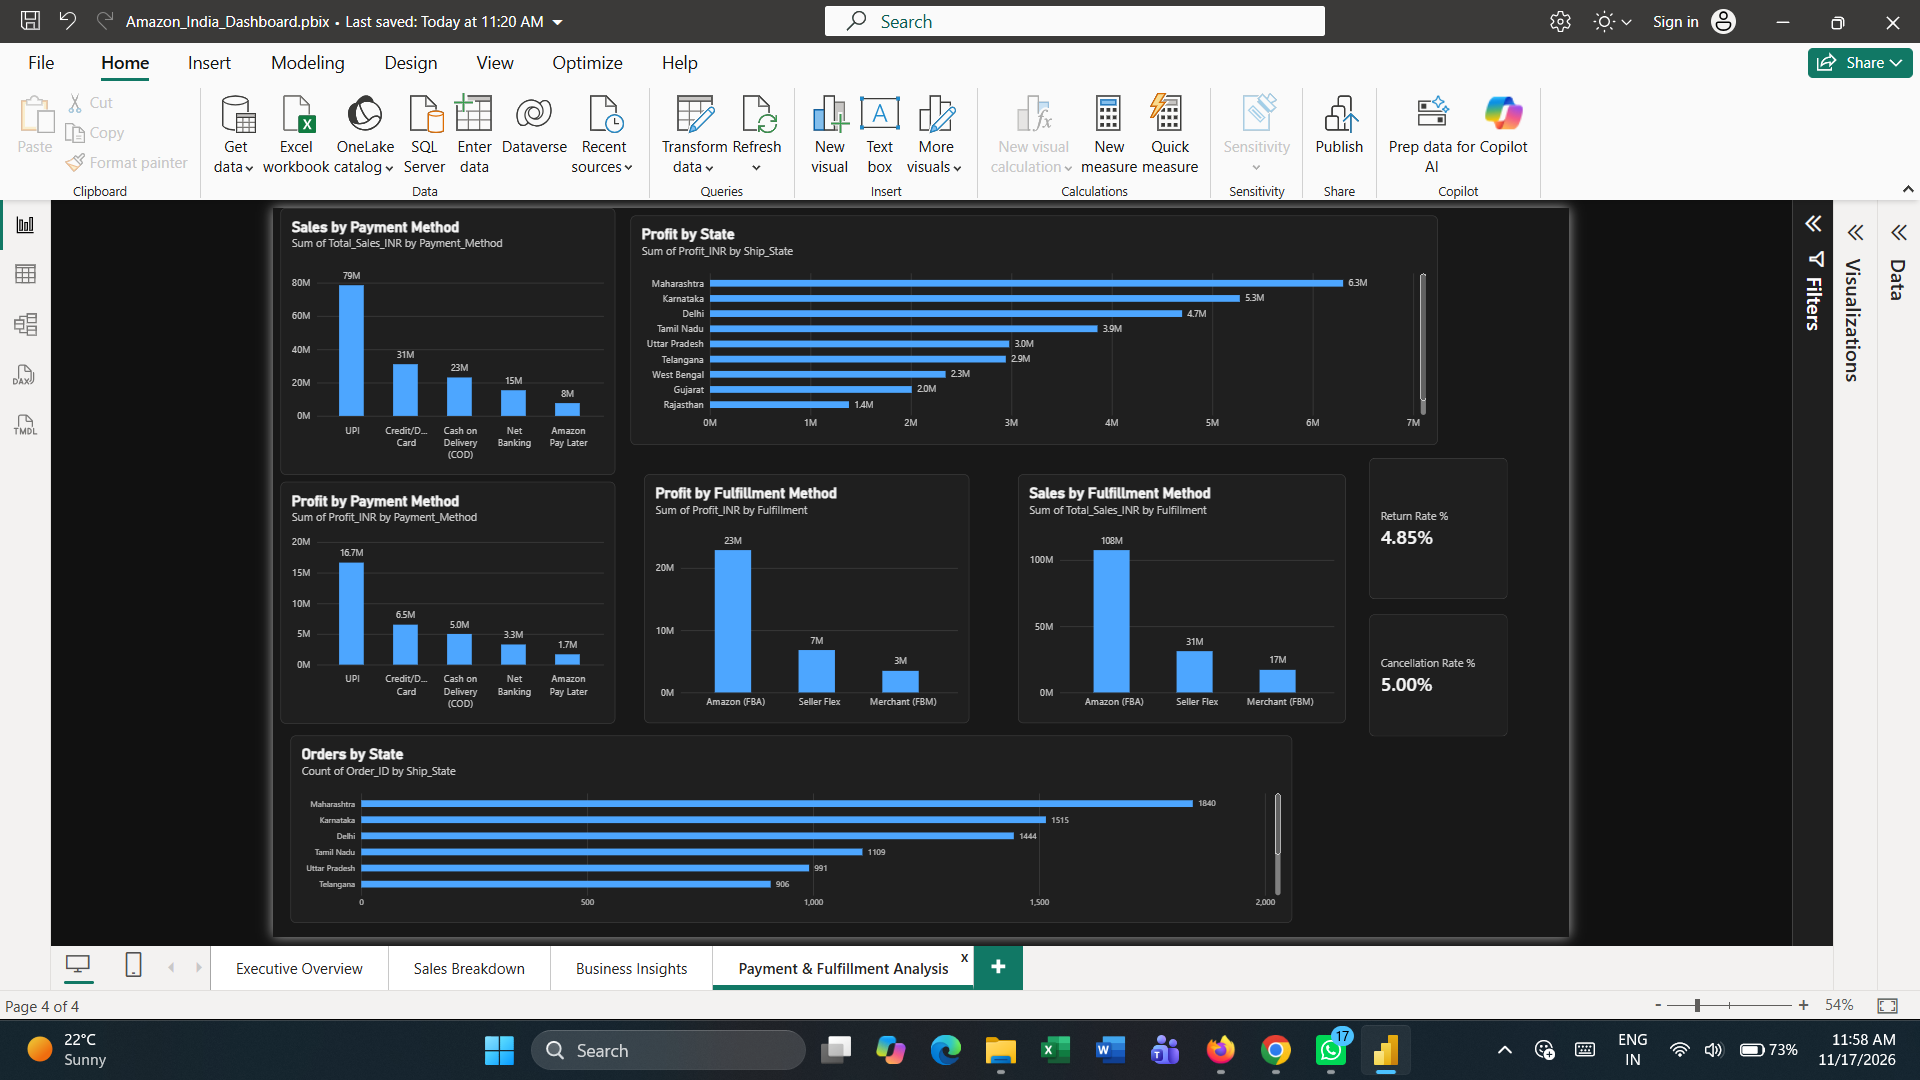

The page's visual inventory and layout, read from the dashboard file:
{"tool":"powerbi","page":{"name":"Payment & Fulfillment Analysis","canvas":[1920,1080],"ordinal":3},"visuals":[{"type":"clusteredColumnChart","title":"Sales by Payment Method","fields":{"Category":["Sheet1.Payment_Method"],"Y":["Sum(Sheet1.Total_Sales_INR)"]},"box":[10.3,0,496.1,395.2],"z":0},{"type":"clusteredColumnChart","title":"Profit by Payment Method","fields":{"Category":["Sheet1.Payment_Method"],"Y":["Sum(Sheet1.Profit_INR)"]},"box":[10.3,405.5,496.1,358.1],"z":1},{"type":"clusteredColumnChart","title":"Sales by Fulfillment Method","fields":{"Category":["Sheet1.Fulfillment"],"Y":["Sum(Sheet1.Total_Sales_INR)"]},"box":[1103.3,395.2,485.8,368.4],"z":2},{"type":"clusteredColumnChart","title":"Profit by Fulfillment Method","fields":{"Category":["Sheet1.Fulfillment"],"Y":["Sum(Sheet1.Profit_INR)"]},"box":[549.6,395.2,481.6,368.4],"z":3},{"type":"clusteredBarChart","title":"Profit by State","fields":{"Category":["Sheet1.Ship_State"],"Y":["Sum(Sheet1.Profit_INR)"]},"box":[529,10.3,1195.9,339.6],"z":4},{"type":"clusteredBarChart","title":"Orders by State","fields":{"Category":["Sheet1.Ship_State"],"Y":["CountNonNull(Sheet1.Order_ID)"]},"box":[26.8,782.2,1484.1,277.9],"z":5},{"type":"cardVisual","fields":{"Data":["Sheet1.Return Rate %"]},"box":[1624,370.5,205.8,209.9],"z":6},{"type":"cardVisual","fields":{"Data":["Sheet1.Cancellation Rate %"]},"box":[1624,601,205.8,181.1],"z":7}]}

Visuals, with their boxes on the page's 1920x1080 design canvas (x1, y1, x2, y2). These are canvas units, not pixel positions in the 1920x1080 screenshot, which may show the page scaled, cropped or inside an application window:
"Sales by Payment Method" clusteredColumnChart: 10,0,506,395
"Profit by Payment Method" clusteredColumnChart: 10,406,506,764
"Sales by Fulfillment Method" clusteredColumnChart: 1103,395,1589,764
"Profit by Fulfillment Method" clusteredColumnChart: 550,395,1031,764
"Profit by State" clusteredBarChart: 529,10,1725,350
"Orders by State" clusteredBarChart: 27,782,1511,1060
cardVisual - Sheet1.Return Rate %: 1624,370,1830,580
cardVisual - Sheet1.Cancellation Rate %: 1624,601,1830,782
